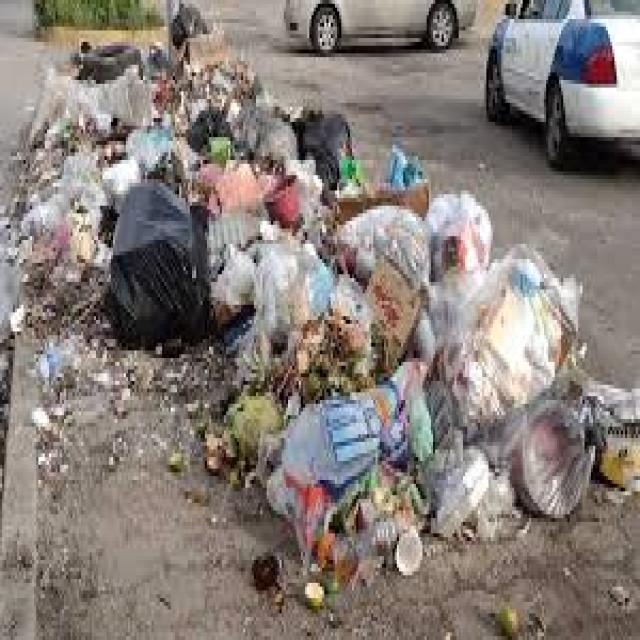garbage: (11, 29, 630, 612)
